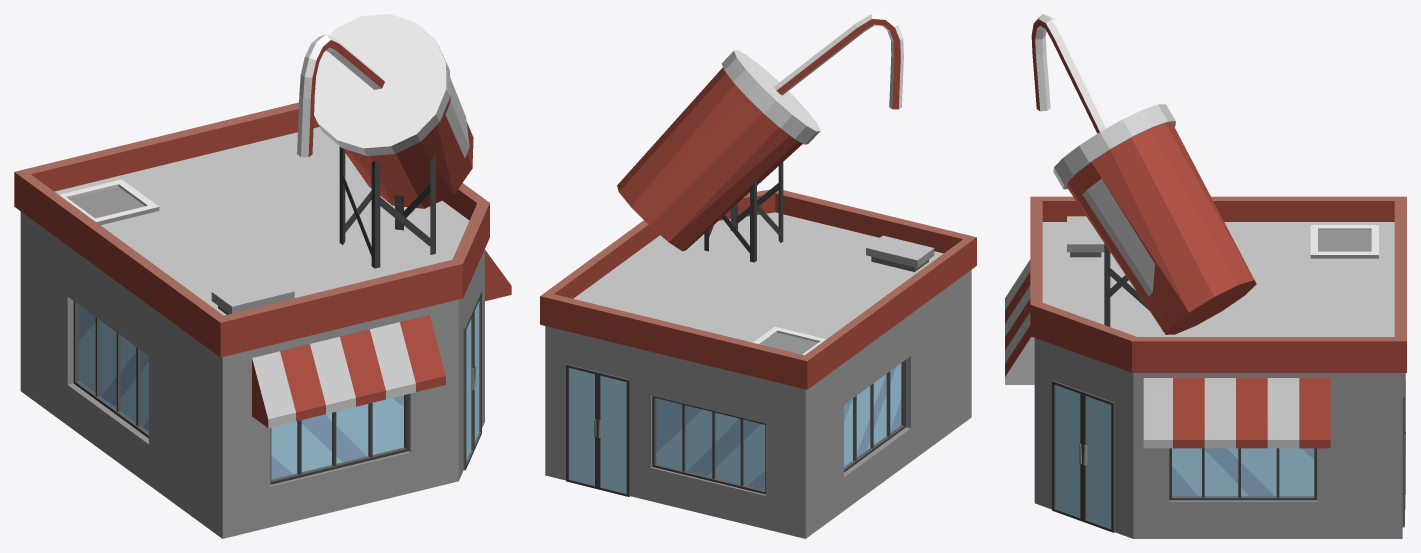
Rendered from cafe_004.fbx.
The picture shows the model from 3 angles, left to right: view 1: azimuth 30°, elevation 25°; view 2: azimuth 150°, elevation 25°; view 3: azimuth 270°, elevation 25°; orthographic projection. The views are drawn at different scales.
Parts seen in each view (by area): view 1: cafe_004; view 2: cafe_004; view 3: cafe_004.
Part boxes in pixels (<box>): cafe_004: <box>14,14,511,538</box>; cafe_004: <box>540,14,976,538</box>; cafe_004: <box>1005,14,1406,538</box>.
Bounding box in the file's own units: 565 × 719 × 609.
